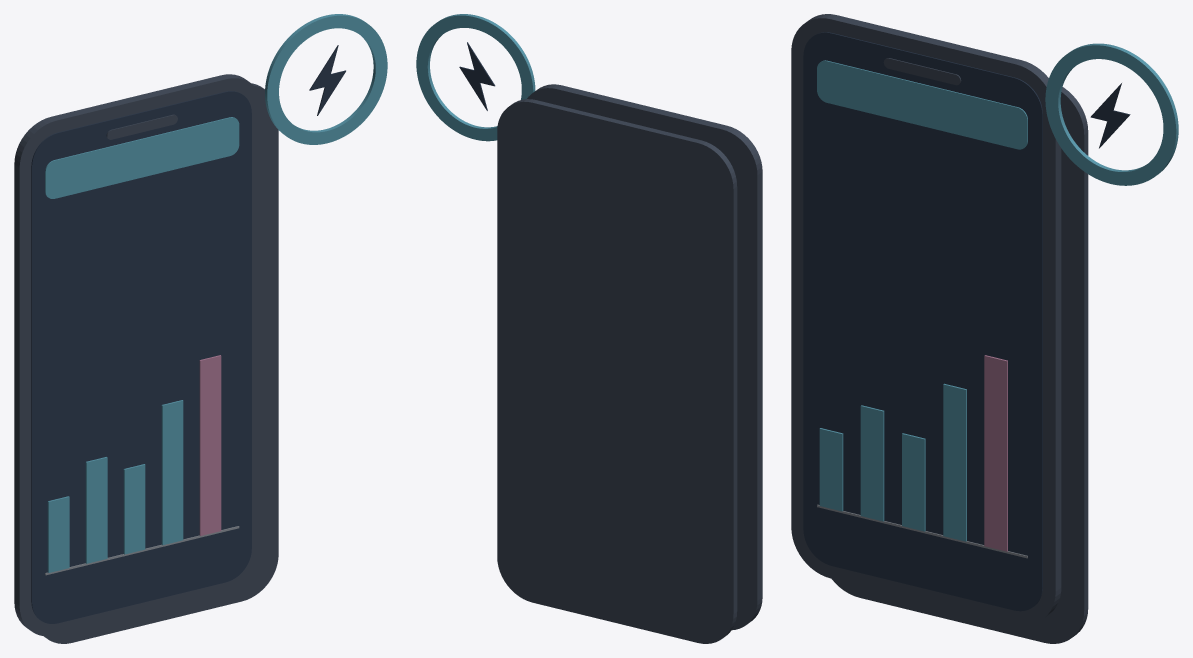
The model's file is field-terminal-art.glb.
The picture shows the model from 3 angles, left to right: view 1: azimuth 30°, elevation 25°; view 2: azimuth 150°, elevation 25°; view 3: azimuth 330°, elevation 25°; orthographic projection. The views are drawn at different scales.
Parts seen in each view (by area): view 1: art-screen, art-body, art-back, art-topbar, art-badge-ring, art-bar-5, art-bar-4, art-bar-2, art-bar-3, art-bar-1, art-badge-bolt, art-notch; view 2: art-back, art-body, art-badge-ring, art-badge-bolt; view 3: art-screen, art-body, art-back, art-topbar, art-badge-ring, art-bar-5, art-bar-4, art-bar-2, art-bar-3, art-bar-1, art-notch, art-badge-bolt (+1 smaller).
Part boxes in pixels (box(x1,y1,x2,y2)): art-screen: box(31, 91, 251, 623); art-body: box(14, 74, 262, 636); art-back: box(44, 83, 278, 643); art-topbar: box(45, 117, 239, 198); art-badge-ring: box(265, 14, 387, 144); art-bar-5: box(199, 355, 221, 535); art-bar-4: box(161, 400, 183, 545); art-bar-2: box(85, 457, 107, 563); art-bar-3: box(123, 464, 145, 554); art-bar-1: box(47, 496, 69, 572); art-badge-bolt: box(309, 45, 345, 115); art-notch: box(106, 114, 177, 139); art-back: box(497, 99, 737, 643); art-body: box(527, 84, 762, 630); art-badge-ring: box(416, 14, 535, 141); art-badge-bolt: box(459, 42, 495, 110); art-screen: box(803, 32, 1042, 611); art-body: box(791, 14, 1061, 624); art-back: box(832, 87, 1088, 643); art-topbar: box(817, 60, 1027, 149); art-badge-ring: box(1045, 43, 1178, 185); art-bar-5: box(984, 355, 1007, 551); art-bar-4: box(943, 383, 966, 541); art-bar-2: box(860, 405, 884, 521); art-bar-3: box(902, 433, 925, 531); art-bar-1: box(819, 428, 843, 511); art-notch: box(883, 58, 961, 85); art-badge-bolt: box(1090, 83, 1130, 148).
Bounding box in the file's own units: 276 × 420 × 22.
